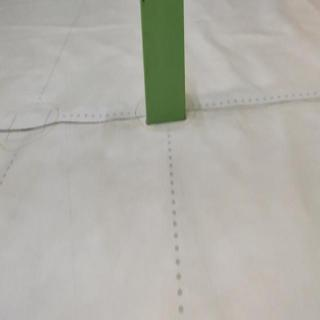greenbox: (138, 2, 187, 124)
